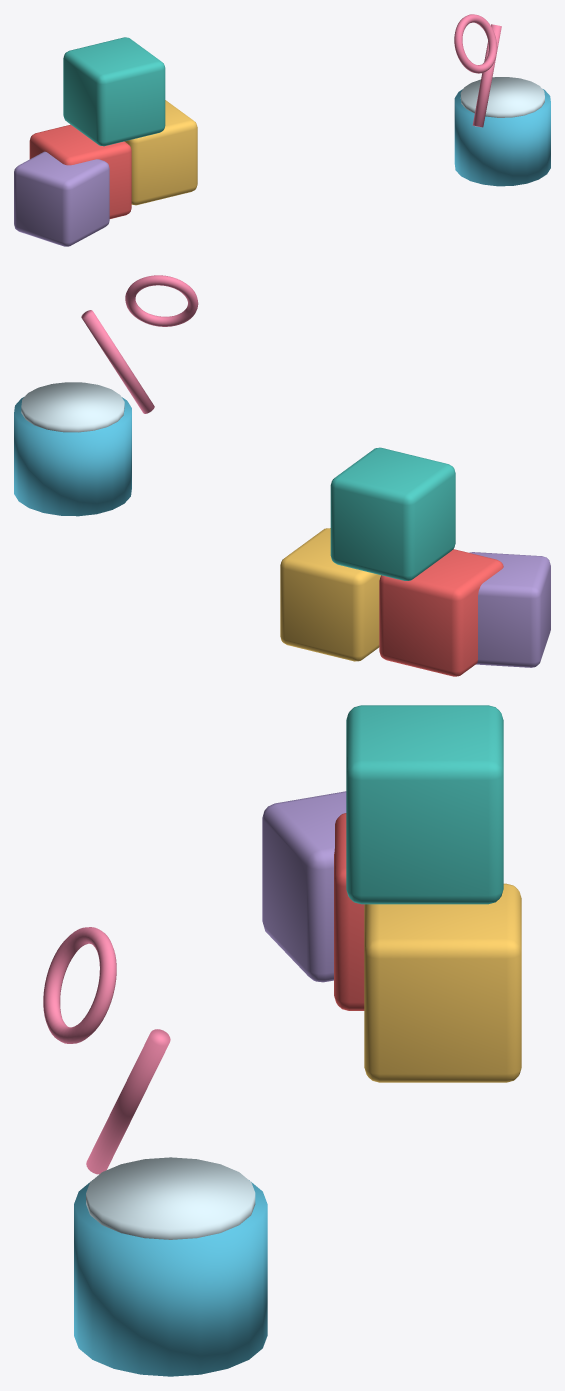
Rendered from room-brinquedos.glb.
The picture shows the model from 3 angles, top to bottom: view 1: azimuth 30°, elevation 25°; view 2: azimuth 150°, elevation 25°; view 3: azimuth 270°, elevation 25°; orthographic projection. The views are drawn at different scales.
Visible parts, largest first — view 1: Toys, Blower; view 2: Toys, Blower; view 3: Toys, Blower.
Part boxes in pixels (x1,y1,x2,y2): Toys: (14,37,197,246); Blower: (454,14,550,186); Toys: (280,447,550,676); Blower: (14,275,198,516); Toys: (262,705,521,1082); Blower: (43,927,267,1376).
Bounding box in the file's own units: 1.82 × 0.6416 × 0.7908.
